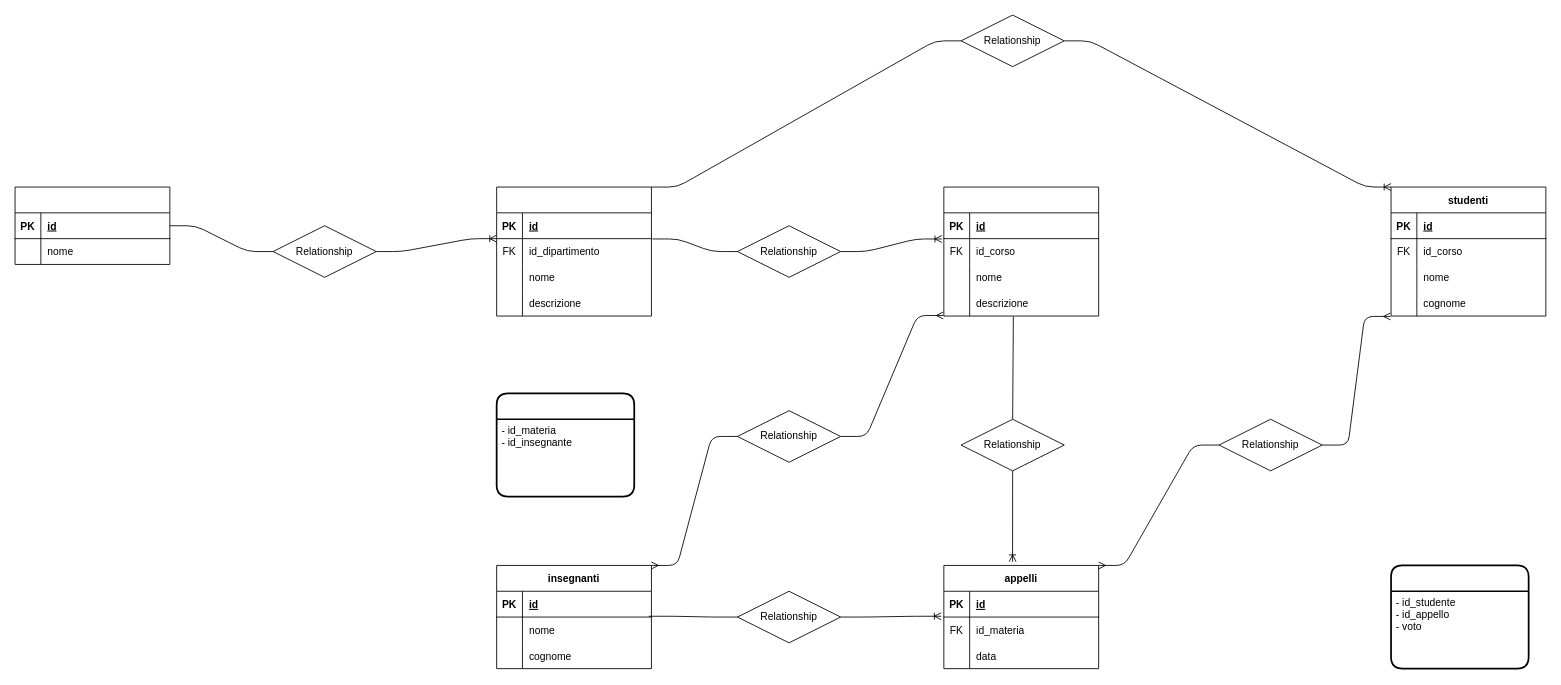
This 1561x685 diagram has some shape labels left out. The shapes that lost their labels are listed below. From the top down, each one's box as (x1, y1, x2, y2) in pixels, then its label:
(14, 186, 170, 264): dipartimenti
(496, 186, 651, 316): corsi
(943, 186, 1099, 316): materie
(495, 392, 635, 497): materia_insegnante
(1390, 564, 1529, 669): studente_appello
